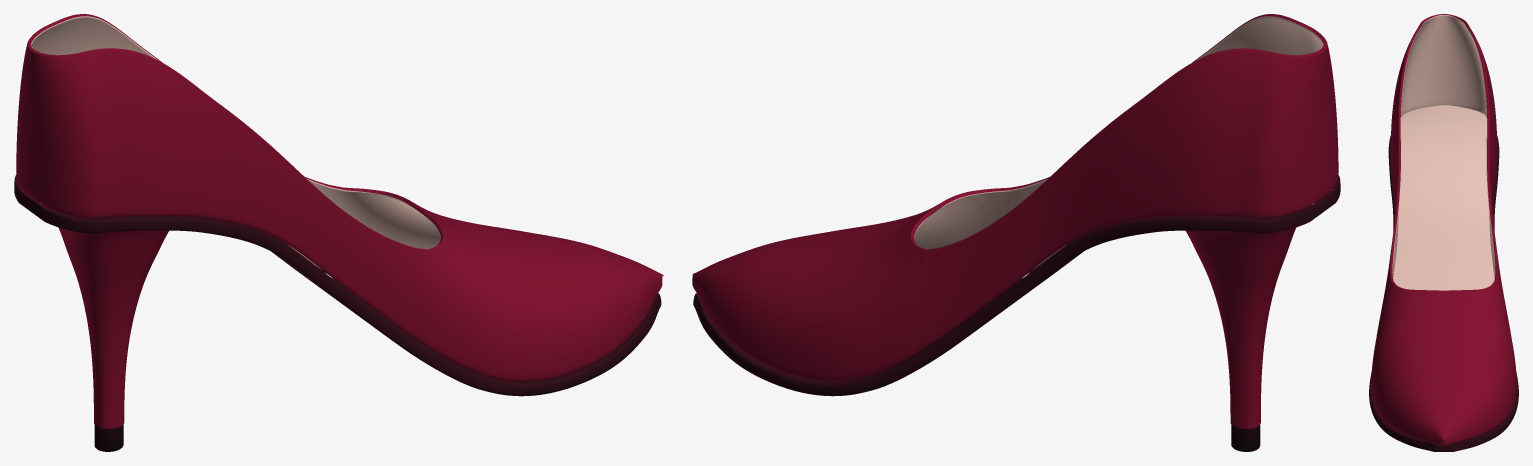
File: shoe.glb
3 renders of one model, left to right at view 1: azimuth 30°, elevation 25°; view 2: azimuth 150°, elevation 25°; view 3: azimuth 270°, elevation 25°, orthographic. The views are drawn at different scales.
Visible parts, largest first — view 1: Upper, Sole, Heel, HeelTip; view 2: Upper, Sole, Heel, HeelTip; view 3: Upper, Insole, Sole.
Boxes of the visible parts, x1,y1,x2,y2 form: Upper: [16, 14, 663, 381]; Sole: [14, 175, 661, 396]; Heel: [58, 227, 168, 428]; HeelTip: [94, 424, 123, 451]; Upper: [692, 14, 1338, 381]; Sole: [693, 175, 1340, 396]; Heel: [1186, 227, 1296, 428]; HeelTip: [1231, 425, 1260, 451]; Upper: [1371, 14, 1516, 445]; Insole: [1393, 105, 1494, 290]; Sole: [1369, 135, 1518, 451].
Bounding box in the file's own units: 0.2449 × 0.1555 × 0.0811.
